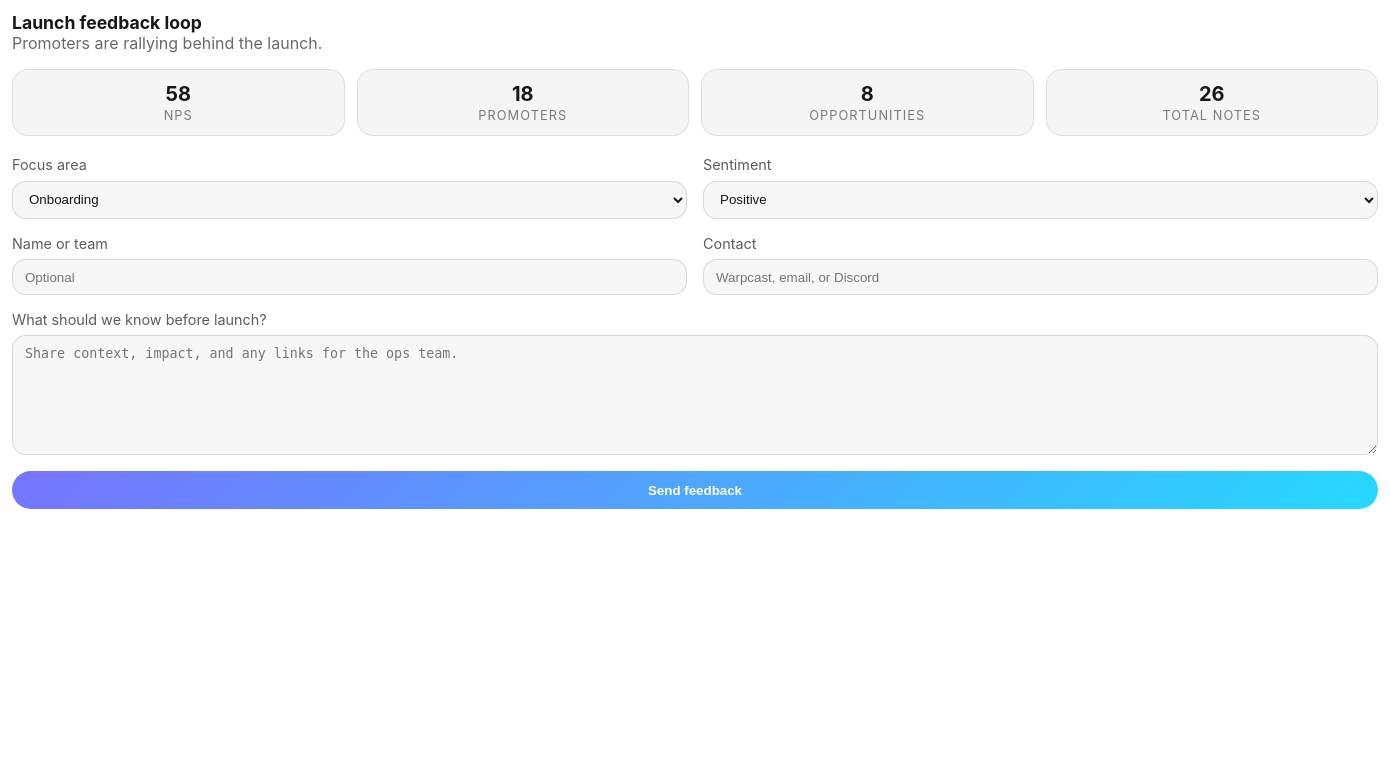
Test: FeedbackPanel › submits feedback and notifies parent on success
Type "The concierge flow feels magical." into the text box labelled "What should we know before launch?" at (695, 395), box [12, 335, 1378, 455]
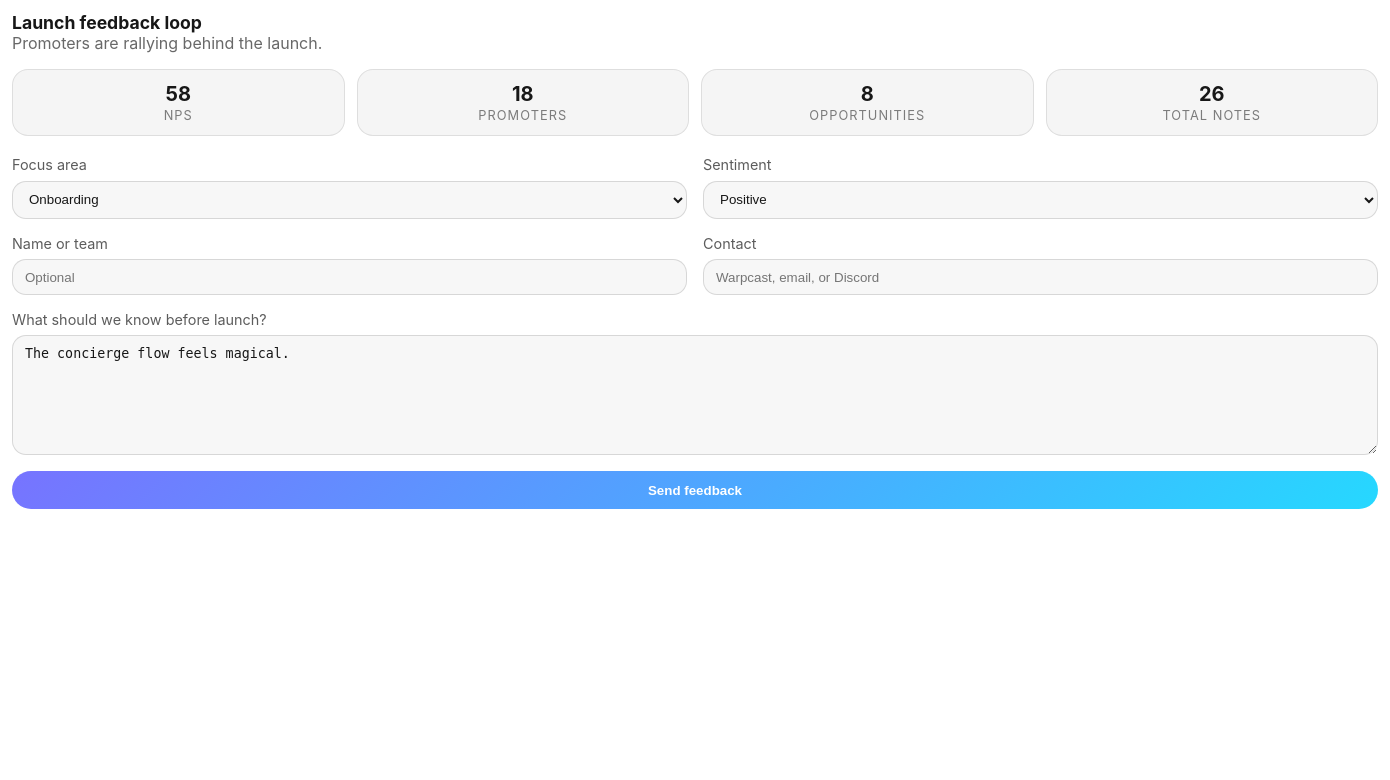
Click the button "Send feedback" at (695, 490), box [12, 471, 1378, 509]
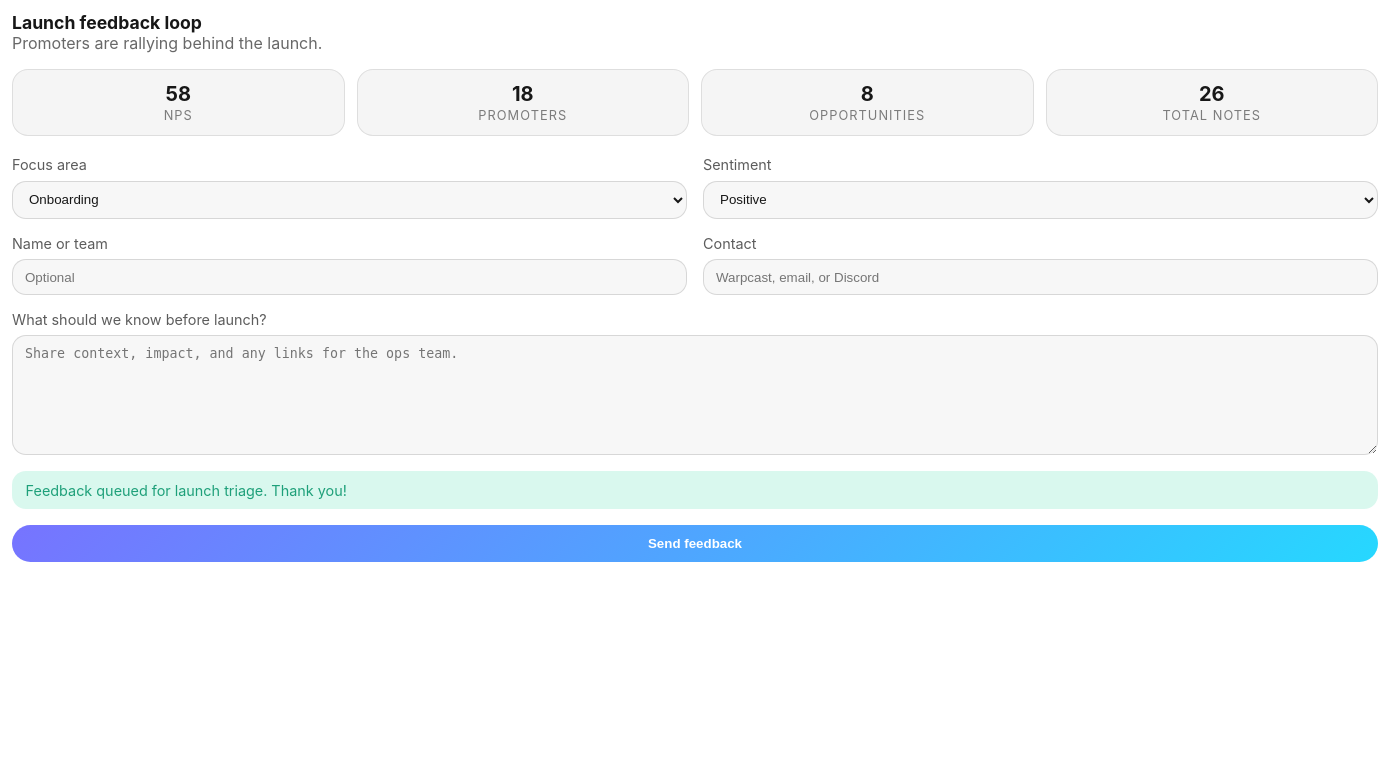
Expected: the text "Feedback queued for launch triage. Thank you!" is shown, [12, 471, 1378, 509]
